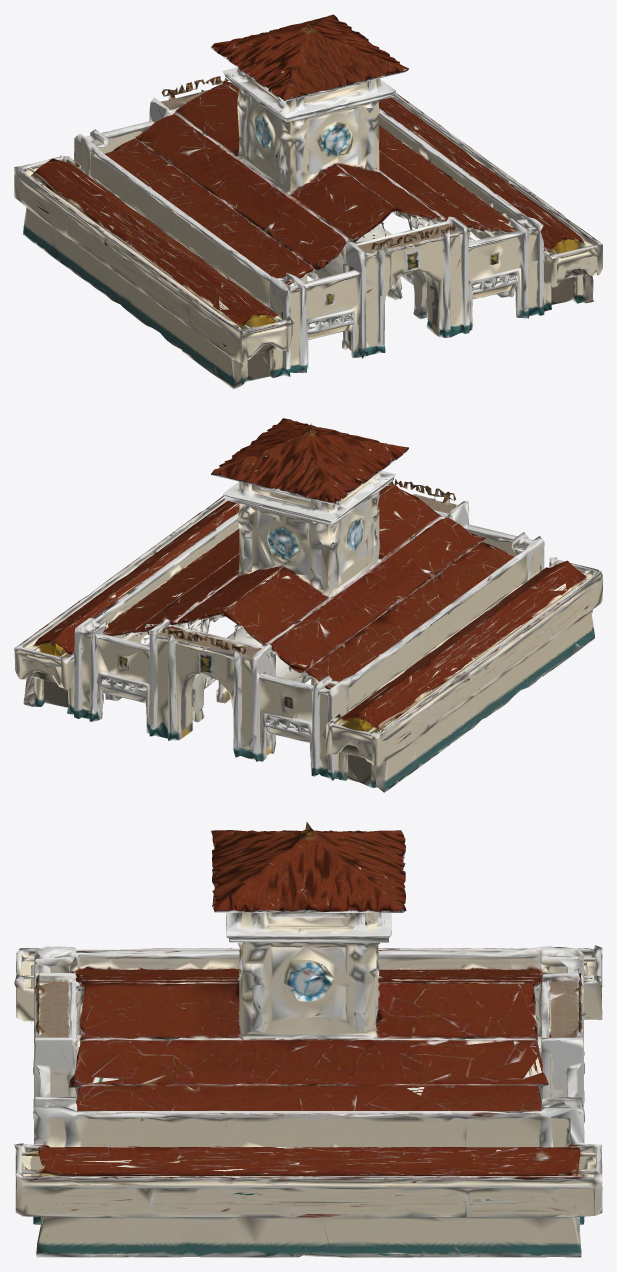
The model's file is cho-ben-thanh.glb.
The picture shows the model from 3 angles, top to bottom: view 1: azimuth 30°, elevation 25°; view 2: azimuth 150°, elevation 25°; view 3: azimuth 270°, elevation 25°; orthographic projection. The views are drawn at different scales.
Bounding box in the file's own units: 0.9217 × 0.601 × 0.9975.
1 material, 1 textured.
